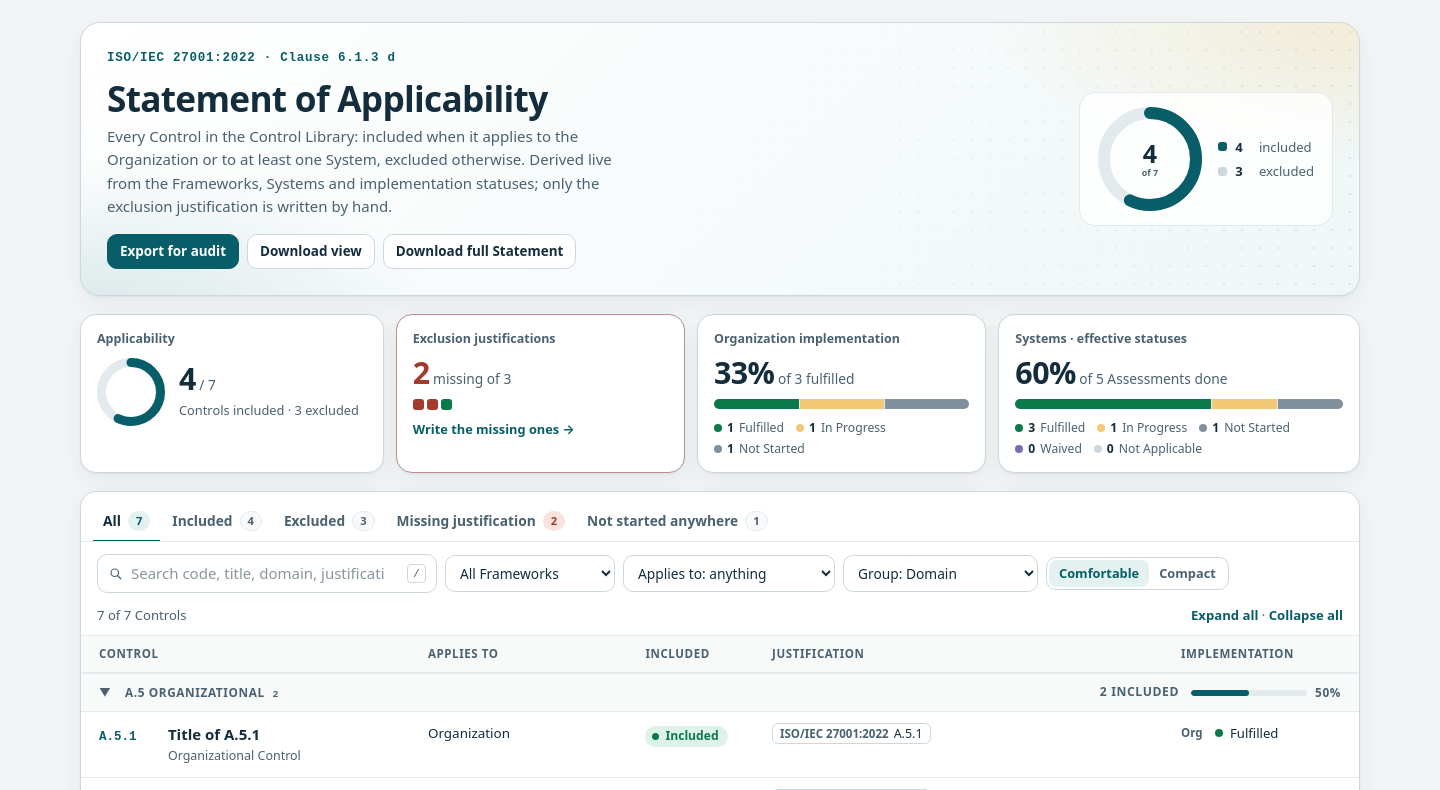
Test case: the cards › the Systems card shows the included Controls that apply to Systems only, and leaves that filter when the view changes
Click the button "Systems · effective statuses": (1101,339) 998,314 -> 1360,474
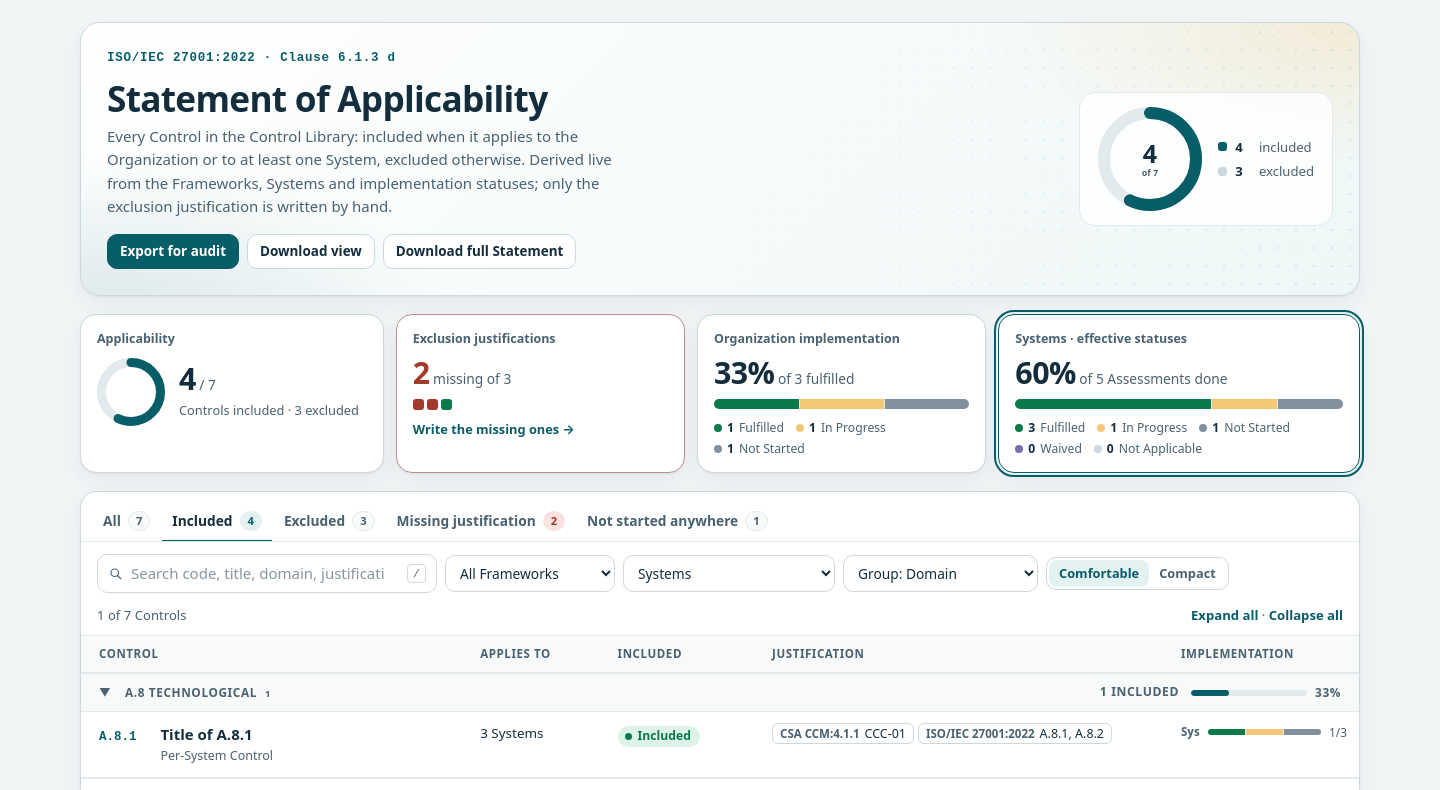
Check: the 2nd dropdown named "Applies to" shows "Systems", box 623,555 -> 835,592
Click the tab "All 7": (127,522) 93,502 -> 160,542
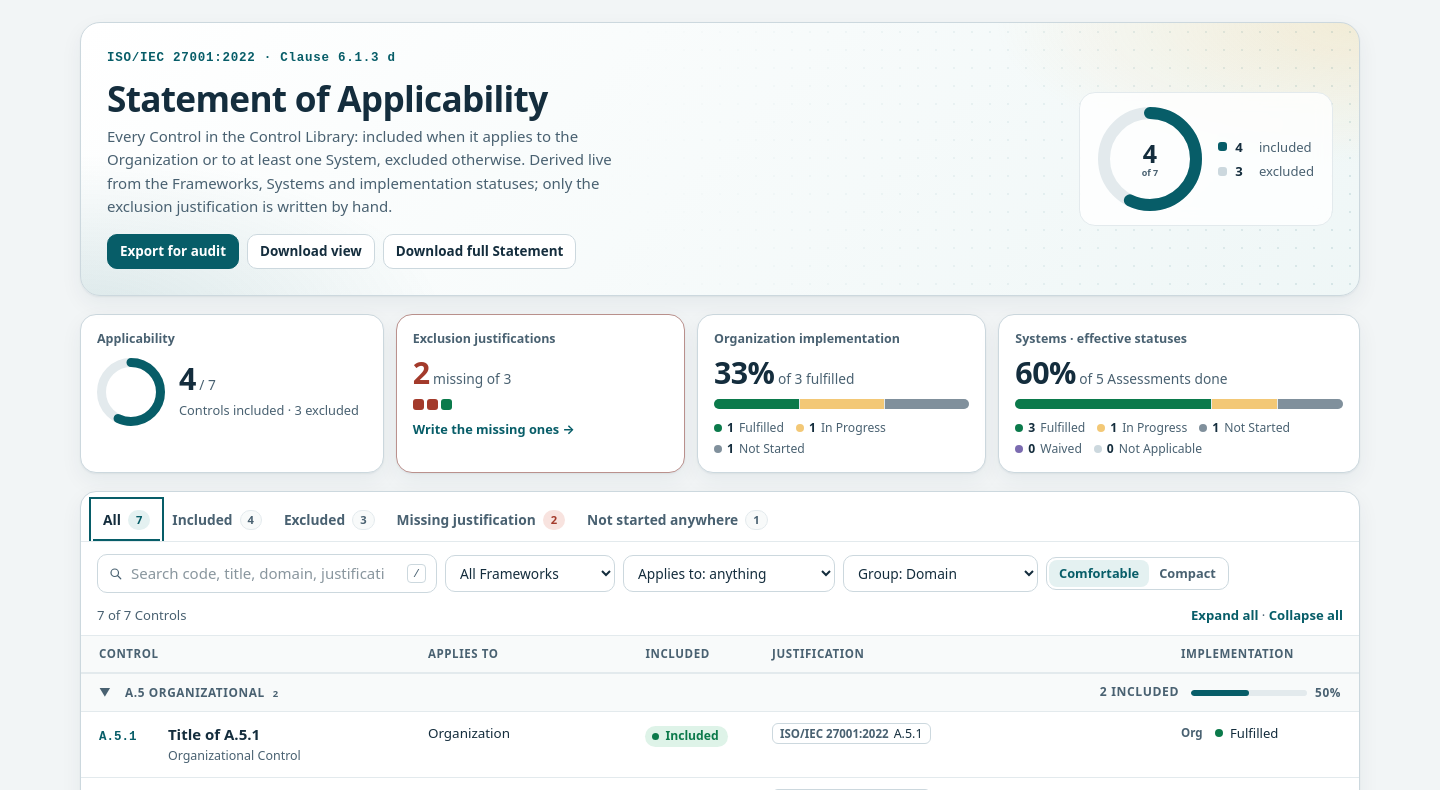
Check: the 2nd dropdown named "Applies to" shows "Applies to: anything", box 623,555 -> 835,592
